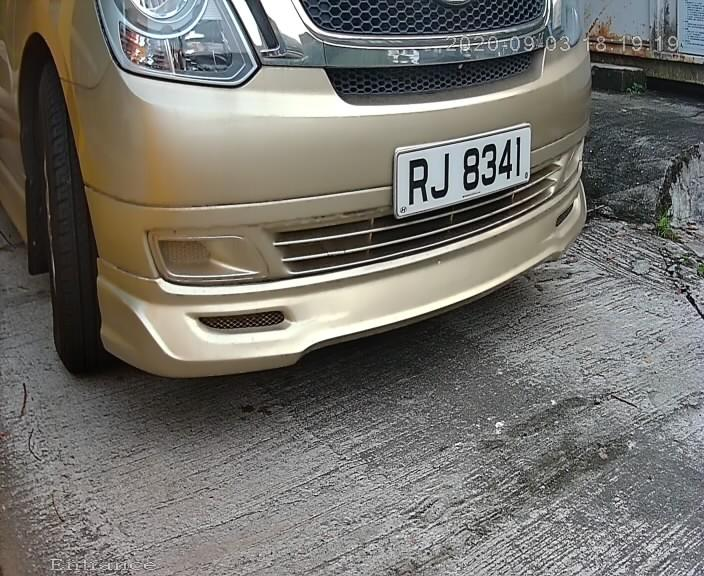License Plate: (381, 119, 541, 229)
